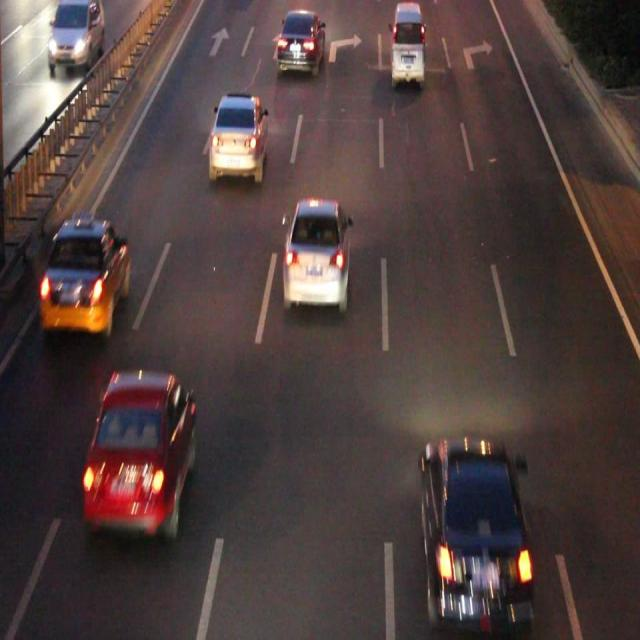car: (83, 372, 195, 532), (421, 444, 530, 604), (42, 221, 127, 330), (284, 201, 347, 307), (211, 97, 266, 177), (278, 11, 323, 72)
truck: (391, 1, 423, 82)
